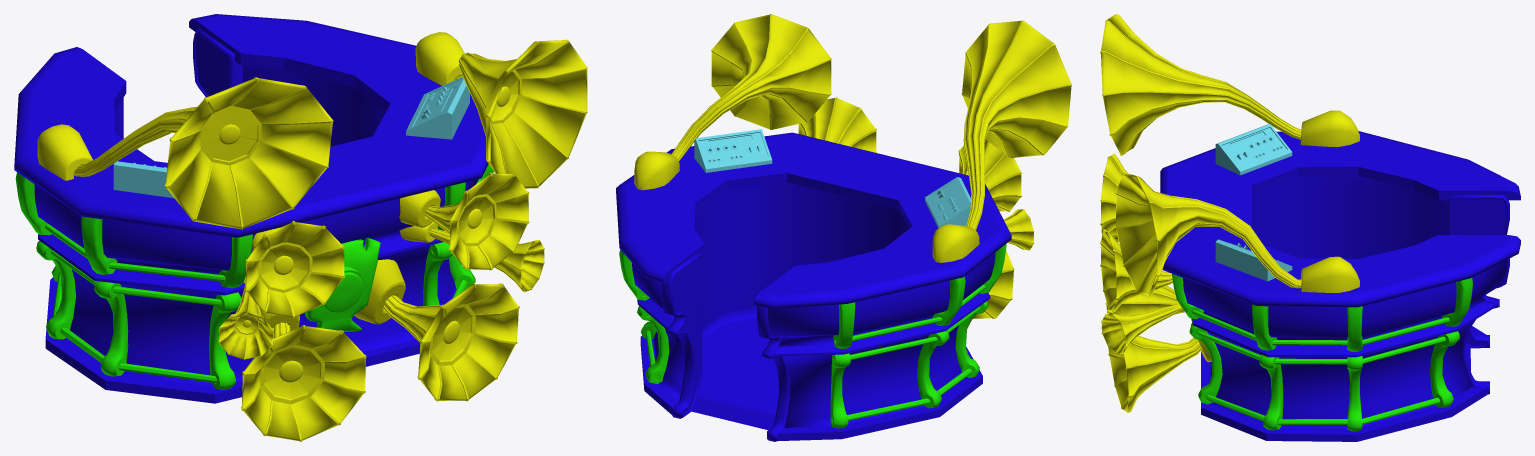
File: M_GPE_DJ_Scene_No_Anim.fbx
The picture shows the model from 3 angles, left to right: view 1: azimuth 30°, elevation 25°; view 2: azimuth 150°, elevation 25°; view 3: azimuth 270°, elevation 25°; orthographic projection. The views are drawn at different scales.
Parts seen in each view (by area): view 1: Cube.050; view 2: Cube.050; view 3: Cube.050.
Boxes of the visible parts, x1,y1,x2,y2 form: Cube.050: (14,14,587,441); Cube.050: (616,14,1071,441); Cube.050: (1100,14,1520,441).
Size of the model in its own units: 1260 by 1036 by 1302.
